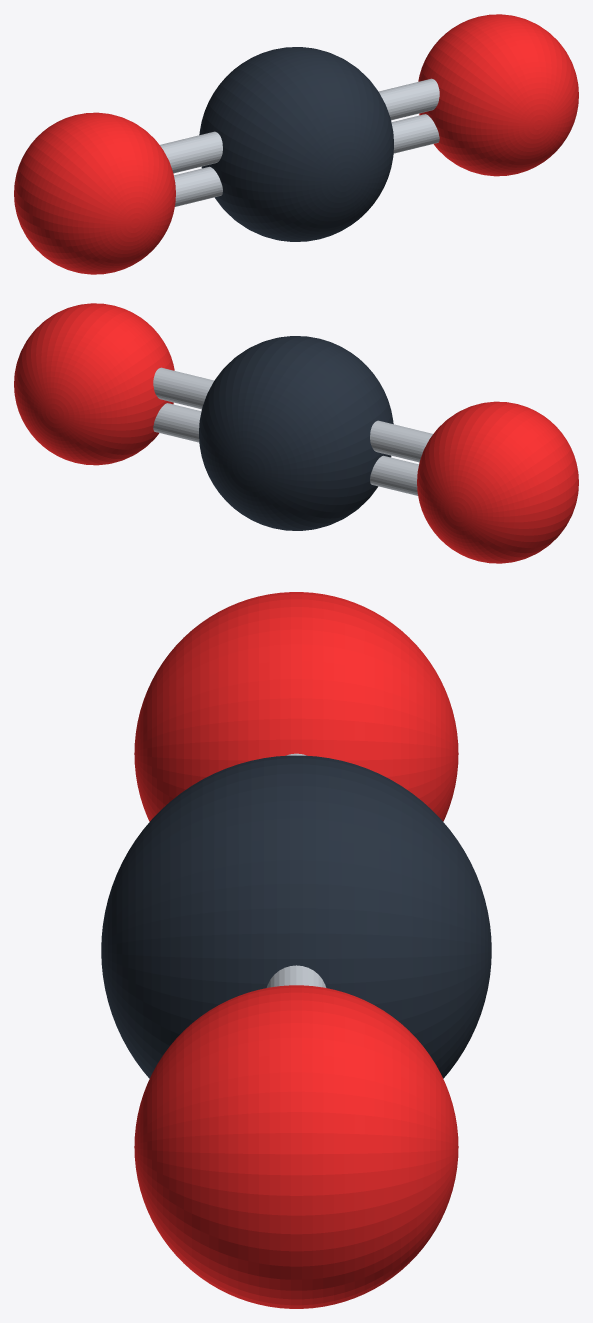
File: carbon_dioxide.glb
The picture shows the model from 3 angles, top to bottom: view 1: azimuth 30°, elevation 25°; view 2: azimuth 150°, elevation 25°; view 3: azimuth 270°, elevation 25°; orthographic projection. The views are drawn at different scales.
Visible parts, largest first — view 1: Carbon, Oxygen_Left, Oxygen_Right, C=O_Left_1, C=O_Right_1, C=O_Left_2, C=O_Right_2; view 2: Carbon, Oxygen_Left, Oxygen_Right, C=O_Left_1, C=O_Right_1, C=O_Left_2, C=O_Right_2; view 3: Carbon, Oxygen_Right, Oxygen_Left, C=O_Right_1.
Boxes of the visible parts, bbox=[...] form: Carbon: bbox=[199, 47, 393, 241]; Oxygen_Left: bbox=[14, 112, 175, 274]; Oxygen_Right: bbox=[418, 14, 578, 176]; C=O_Left_1: bbox=[160, 131, 222, 173]; C=O_Right_1: bbox=[379, 78, 439, 120]; C=O_Left_2: bbox=[174, 166, 222, 206]; C=O_Right_2: bbox=[391, 114, 439, 153]; Carbon: bbox=[199, 336, 393, 530]; Oxygen_Left: bbox=[417, 401, 578, 563]; Oxygen_Right: bbox=[14, 303, 174, 465]; C=O_Left_1: bbox=[370, 420, 432, 462]; C=O_Right_1: bbox=[153, 367, 213, 409]; C=O_Left_2: bbox=[370, 455, 418, 495]; C=O_Right_2: bbox=[153, 403, 201, 442]; Carbon: bbox=[101, 755, 491, 1078]; Oxygen_Right: bbox=[134, 985, 458, 1308]; Oxygen_Left: bbox=[134, 592, 458, 821]; C=O_Right_1: bbox=[266, 965, 326, 987].
Size of the model in its own units: 1.81 by 0.5637 by 0.564.
